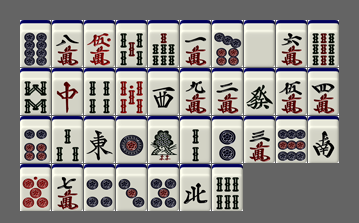0m: (84, 20, 115, 67)
0p: (20, 164, 51, 211)
0s: (116, 68, 147, 115)
1m: (180, 20, 211, 67)
1p: (116, 116, 147, 163)
1s: (148, 116, 179, 163)
1z: (84, 116, 115, 163)
2m: (212, 68, 243, 115)
2p: (212, 116, 243, 163)
2s: (180, 116, 211, 163)
2z: (308, 116, 339, 163)
3m: (244, 116, 275, 163)
3p: (116, 164, 147, 211)
3s: (52, 116, 83, 163)
3z: (148, 68, 179, 115)
4m: (308, 68, 339, 115)
4p: (84, 164, 115, 211)
4s: (84, 68, 115, 115)
4z: (180, 164, 211, 211)
5m: (276, 68, 307, 115)
5p: (148, 164, 179, 211)
5s: (116, 20, 147, 67)
5z: (244, 20, 275, 67)
6m: (276, 20, 307, 67)
6p: (20, 116, 51, 163)
6s: (212, 164, 243, 211)
6z: (244, 68, 275, 115)
7m: (52, 164, 83, 211)
7p: (212, 20, 243, 67)
7s: (148, 20, 179, 67)
7z: (52, 68, 83, 115)
8m: (52, 20, 83, 67)
8p: (20, 20, 51, 67)
8s: (20, 68, 51, 115)
9m: (180, 68, 211, 115)
9p: (276, 116, 307, 163)
9s: (308, 20, 339, 67)
